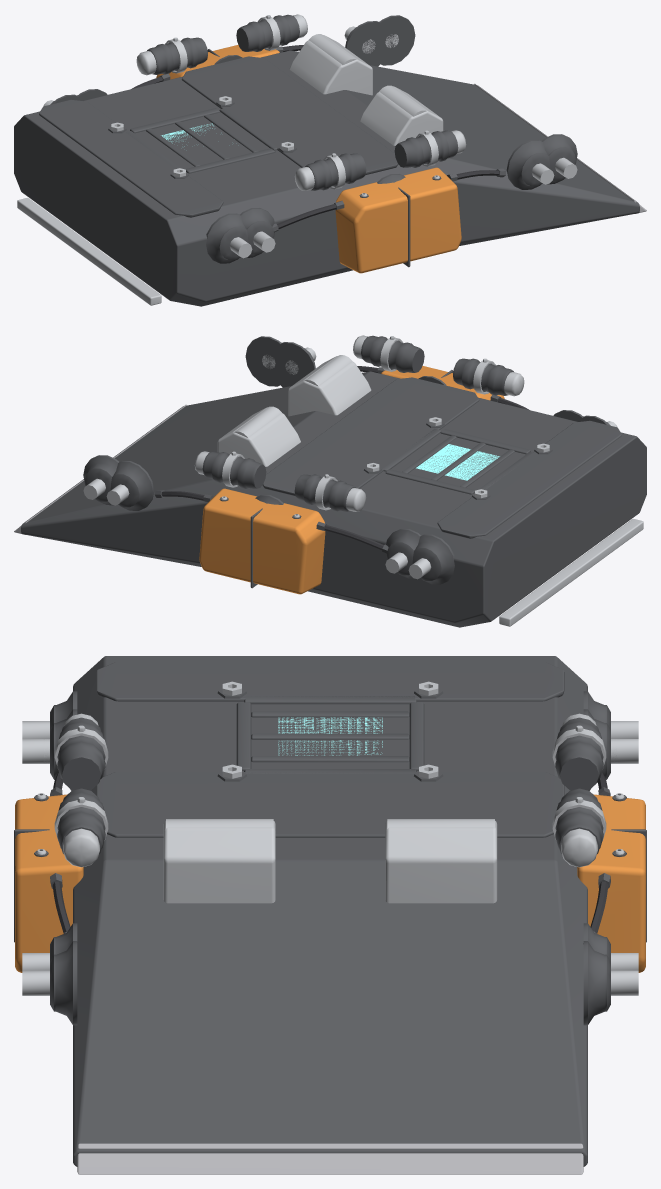
The model's file is wedge.glb.
The picture shows the model from 3 angles, top to bottom: view 1: azimuth 30°, elevation 25°; view 2: azimuth 150°, elevation 25°; view 3: azimuth 270°, elevation 25°; orthographic projection. The views are drawn at different scales.
Visible parts, largest first — view 1: body; view 2: body; view 3: body.
Part boxes in pixels (x1,y1,x2,y2): body: (14,14,646,306); body: (14,335,646,627); body: (14,656,646,1174).
Bounding box in the file's own units: 0.8329 × 0.2194 × 0.6.
